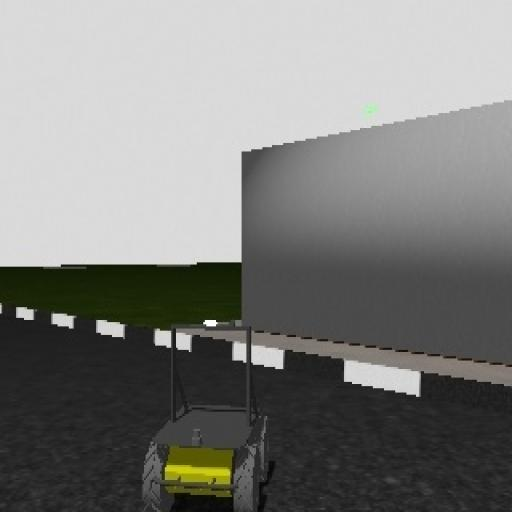huskya200: (147, 315, 267, 512)
